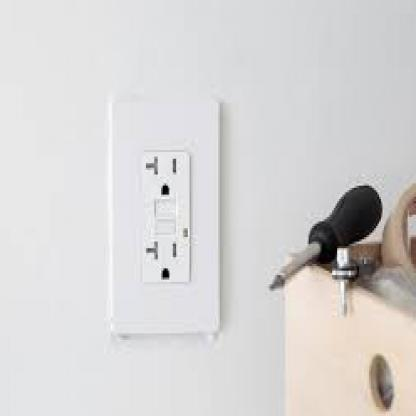OUTLET: (107, 99, 220, 336)
